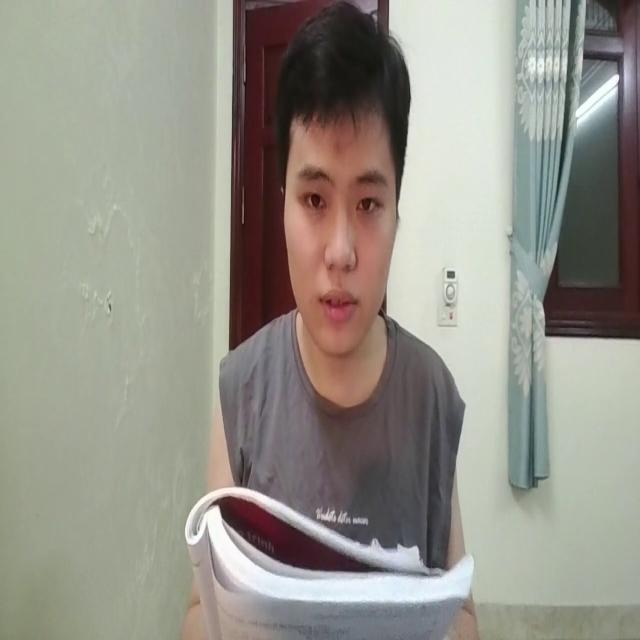book: (176, 481, 479, 640)
student: (172, 4, 480, 640)
